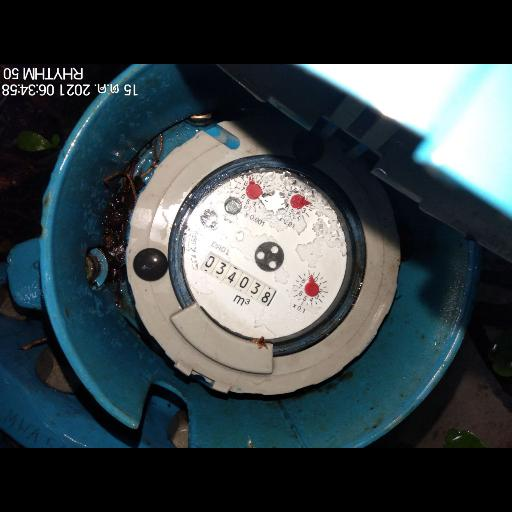0: (201, 254, 219, 275), (236, 273, 254, 294)
3: (212, 260, 231, 281), (247, 279, 266, 299)
4: (223, 266, 243, 287)
8: (258, 287, 276, 306)
border_water_meter_number: (198, 251, 280, 310)
